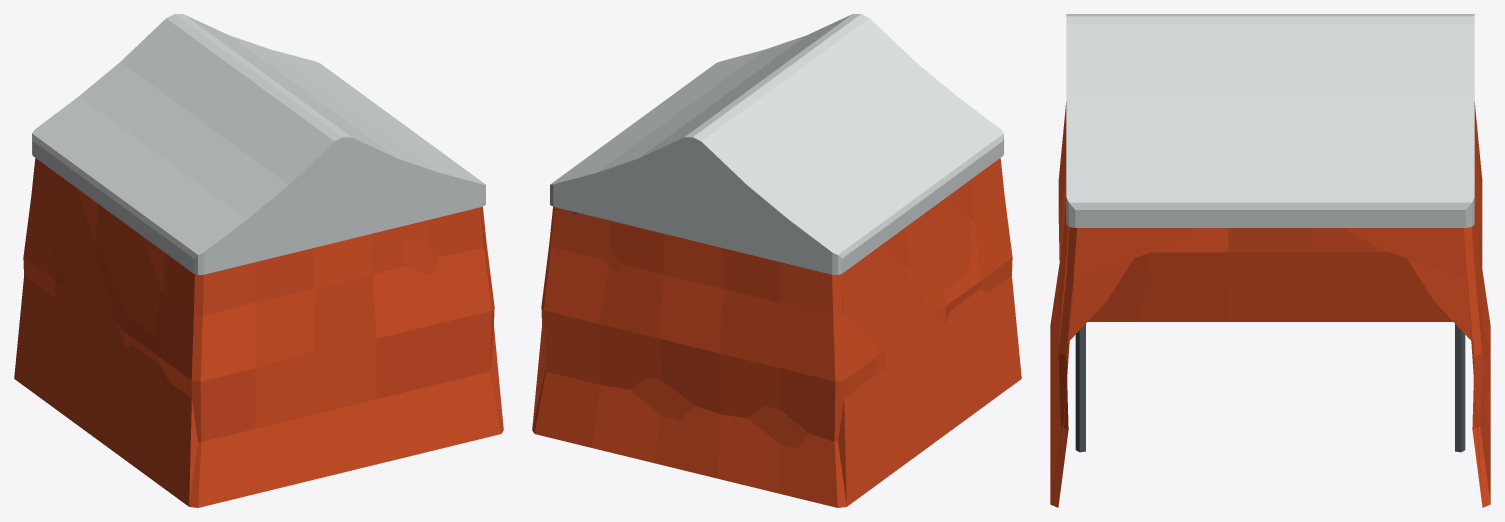
The model's file is rowtentopen3.fbx.
3 views of the same model, side by side, from view 1: azimuth 30°, elevation 25°; view 2: azimuth 150°, elevation 25°; view 3: azimuth 270°, elevation 25° (orthographic). The views are drawn at different scales.
Parts seen in each view (by area): view 1: 立方体.001, 立方体; view 2: 立方体.001, 立方体; view 3: 立方体, 立方体.001, 円柱.
Part boxes in pixels (x1,y1,x2,y2): 立方体.001: (14,158,503,507); 立方体: (32,14,485,274); 立方体.001: (532,158,1021,507); 立方体: (550,14,1003,274); 立方体: (1066,14,1474,227); 立方体.001: (1050,101,1490,507); 円柱: (1075,324,1465,452).
Size of the model in its own units: 216 by 215 by 216.
